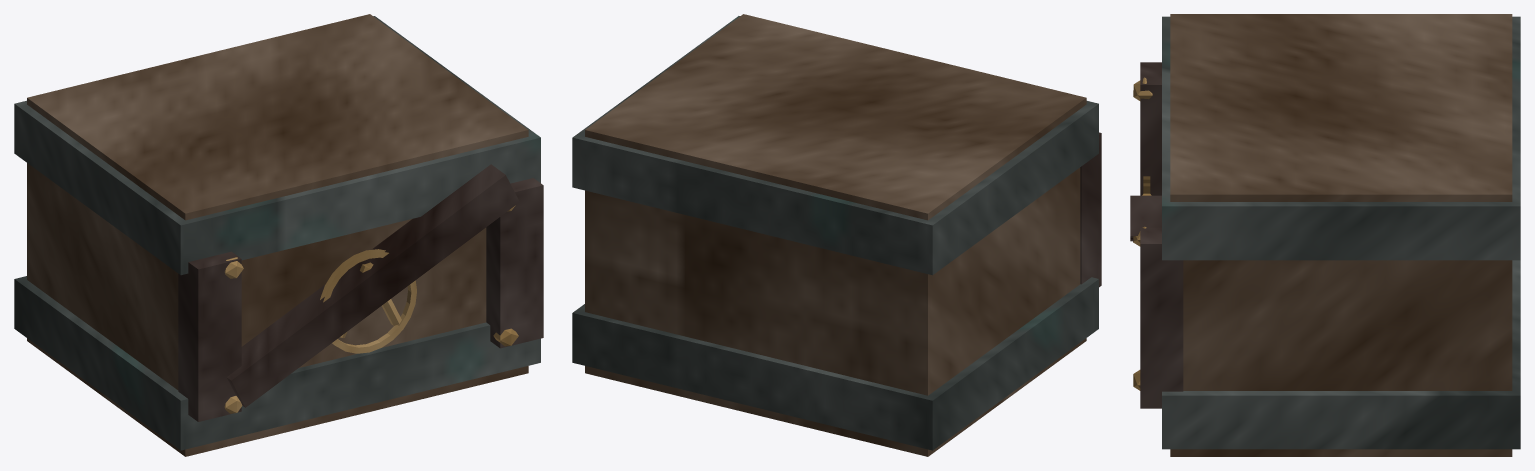
The model's file is 0744_supply_crate_19.glb.
3 renders of one model, left to right at view 1: azimuth 30°, elevation 25°; view 2: azimuth 150°, elevation 25°; view 3: azimuth 270°, elevation 25°, orthographic. The views are drawn at different scales.
Visible parts, largest first — view 1: wood, iron, wood_dark, brass; view 2: wood, iron, wood_dark; view 3: wood, iron, wood_dark, brass.
Part boxes in pixels (left/top/right/bottom): wood: left=27, top=14, right=528, bottom=456; iron: left=14, top=16, right=540, bottom=450; wood_dark: left=178, top=164, right=543, bottom=421; brass: left=224, top=205, right=518, bottom=413; wood: left=585, top=14, right=1086, bottom=456; iron: left=572, top=16, right=1098, bottom=450; wood_dark: left=1080, top=132, right=1101, bottom=287; wood: left=1170, top=14, right=1512, bottom=456; iron: left=1162, top=16, right=1520, bottom=449; wood_dark: left=1130, top=62, right=1183, bottom=408; brass: left=1133, top=77, right=1152, bottom=390.
Bounding box in the file's own units: 0.8316 × 0.5367 × 0.7241.
Materials: 4 (4 with a texture image).
